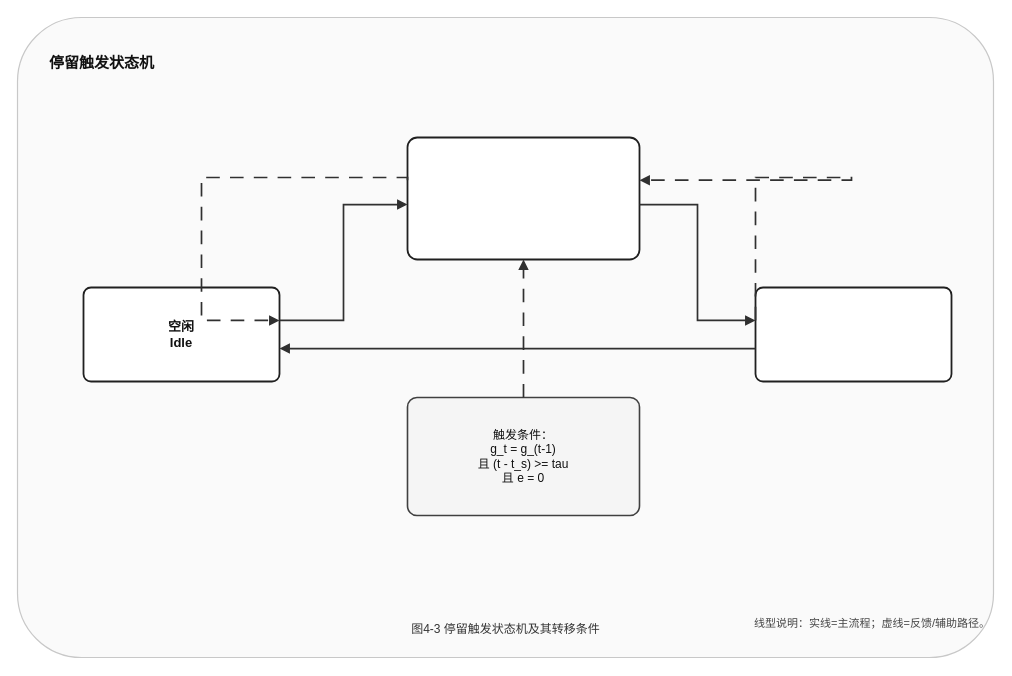
The diagram is 1012 pixels wide and 676 high, and some of its shapes have lost their labels. Each missing label, with the box of its shape:
触发 Triggered e = 1: (754, 286, 952, 382)
跟踪 Tracking 累计 dwell 时间: (406, 136, 640, 260)
